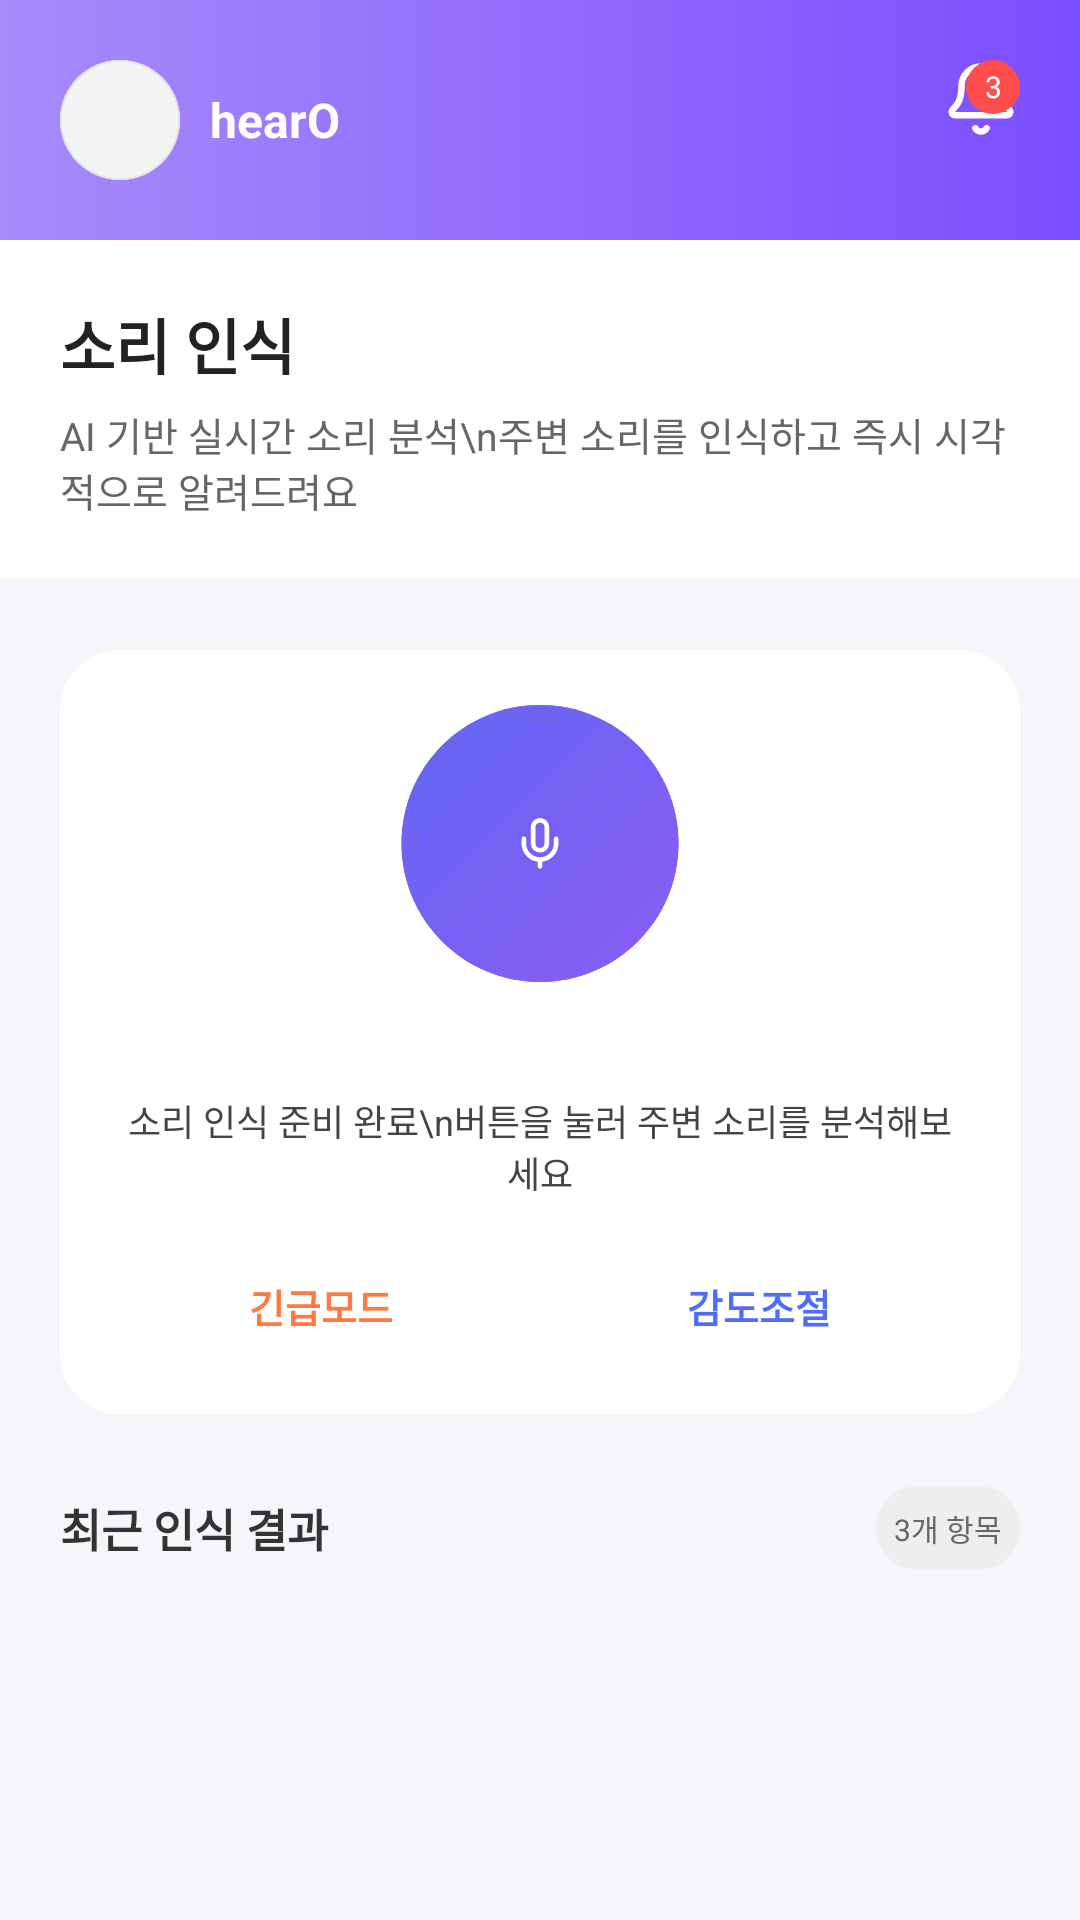

Screen size 1080×1920. Icon name, then its box in pixels as (x1, y1, x2, y2):
alarm: (948, 60, 1020, 135)
mic idle: (401, 705, 679, 982)
